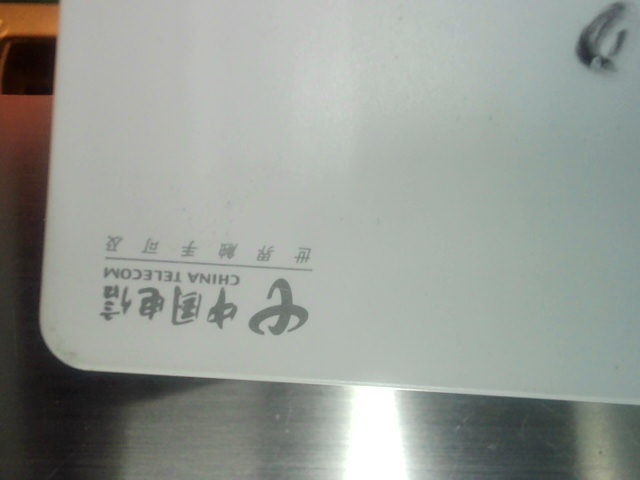AB_ChinaTelecom: (102, 229, 329, 339)
